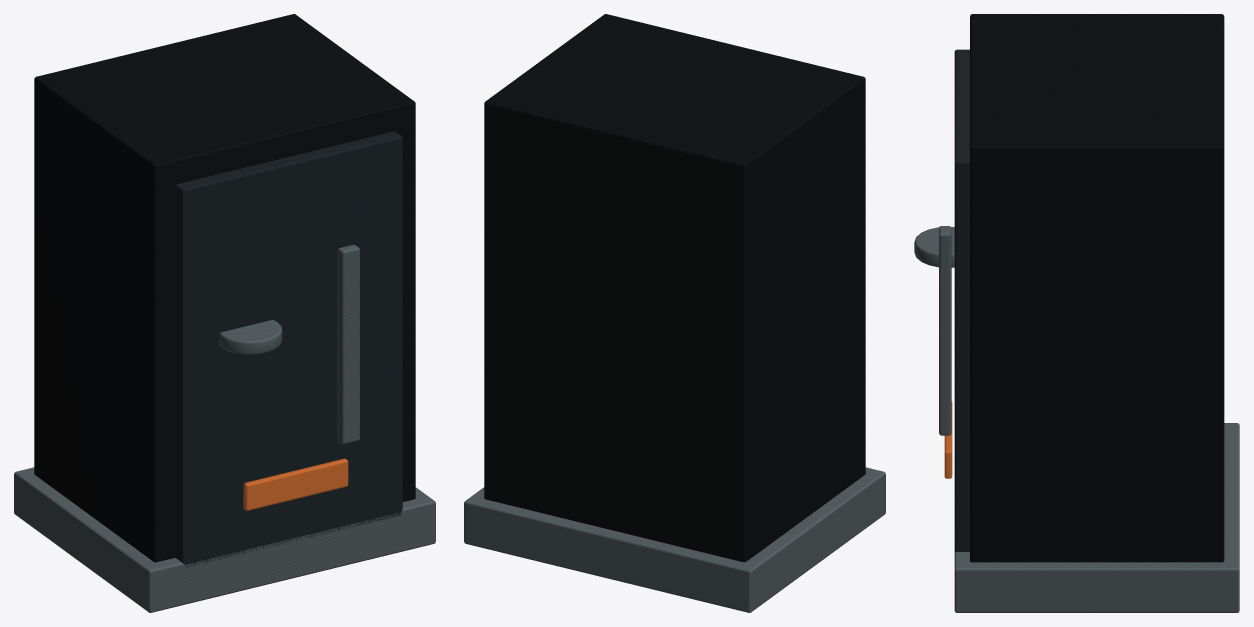
Rendered from SecureStorageSafe.glb.
3 renders of one model, left to right at view 1: azimuth 30°, elevation 25°; view 2: azimuth 150°, elevation 25°; view 3: azimuth 270°, elevation 25°, orthographic. The views are drawn at different scales.
Parts seen in each view (by area): view 1: SecureStorageSafe_Mesh; view 2: SecureStorageSafe_Mesh; view 3: SecureStorageSafe_Mesh.
Part boxes in pixels (x1=…): SecureStorageSafe_Mesh: x1=14, y1=14, x2=435, y2=612; SecureStorageSafe_Mesh: x1=464, y1=14, x2=885, y2=612; SecureStorageSafe_Mesh: x1=914, y1=14, x2=1239, y2=612.
Size of the model in its own units: 1.12 by 1.64 by 1.05.
Materials: 5 (5 with a texture image).
